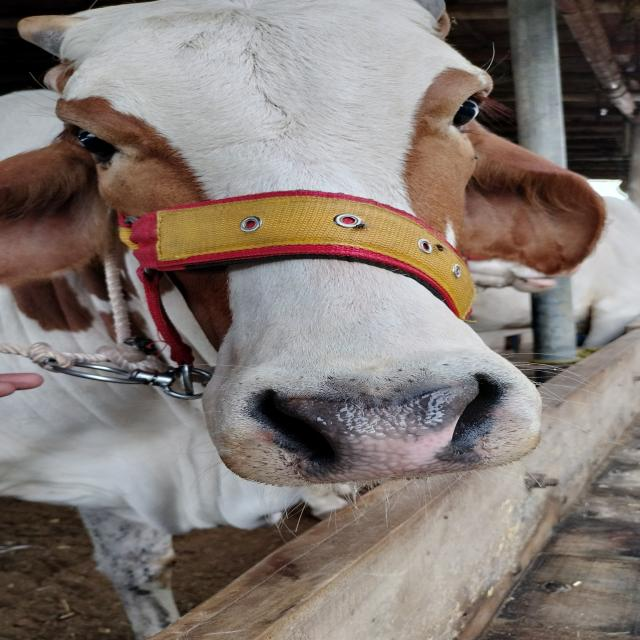muzzles: (225, 358, 542, 478)
